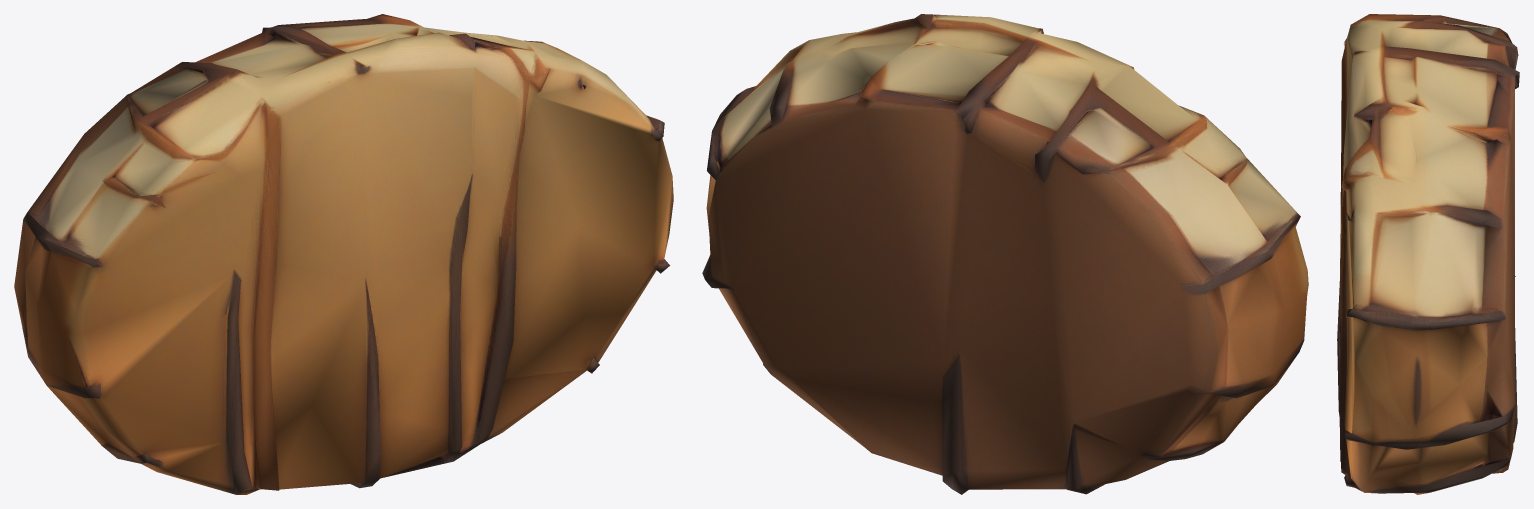
Rendered from drum.glb.
The picture shows the model from 3 angles, left to right: view 1: azimuth 30°, elevation 25°; view 2: azimuth 150°, elevation 25°; view 3: azimuth 270°, elevation 25°; orthographic projection. The views are drawn at different scales.
Bounding box in the file's own units: 2 × 1.37 × 0.5626.
1 material, 1 textured.
